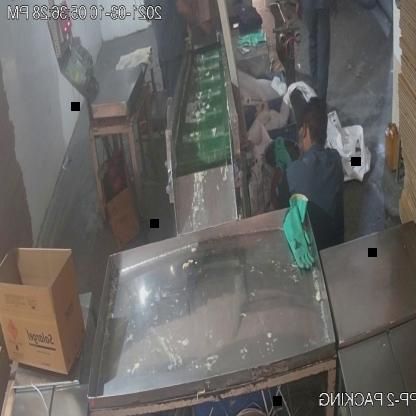no_glove: (294, 0, 306, 27)
